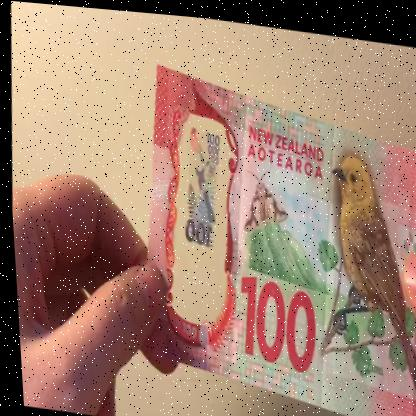100B: (170, 111, 228, 300)
